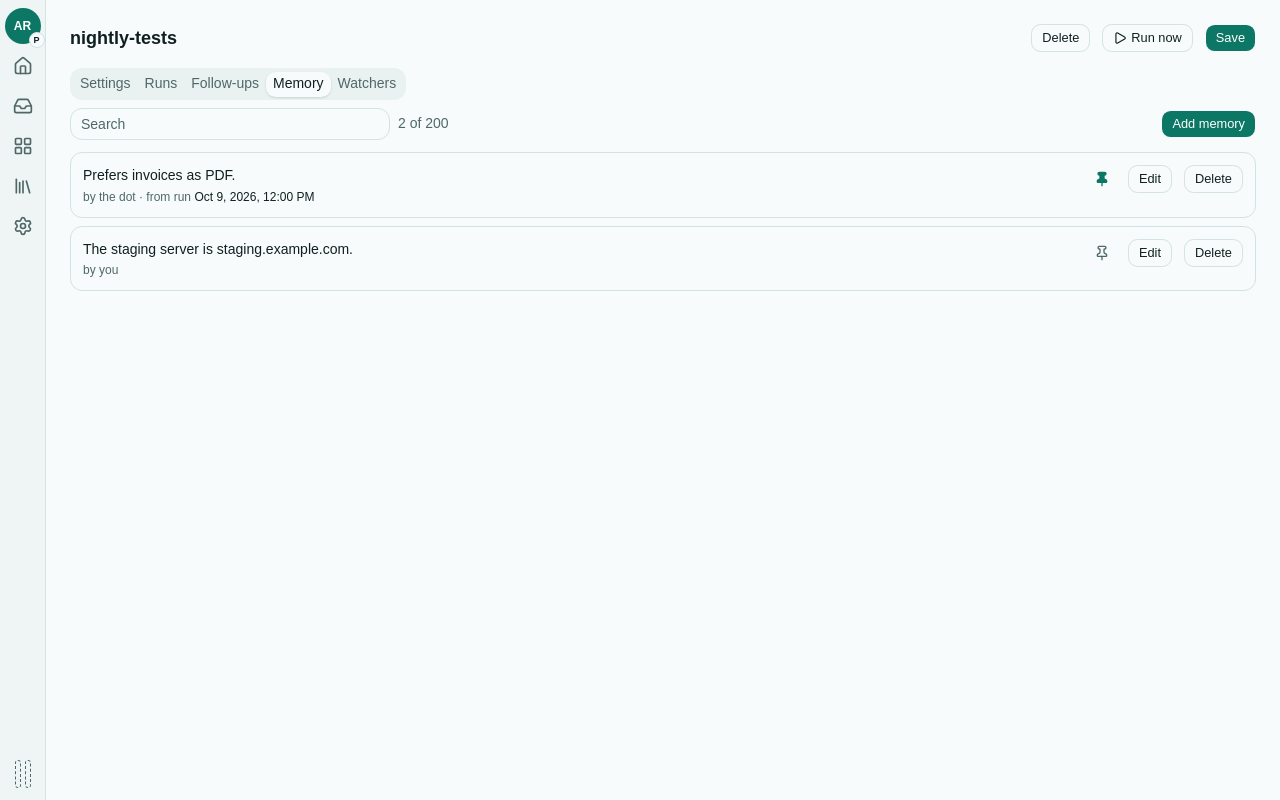
it: a dot's Memory tab › finds memories by the words in their text
The width and height of the screenshot is (1280, 800).
Check: the tab "Memory" is shown, box [266, 72, 331, 96]
In the search field named "Search memories": [230, 124] box [70, 108, 390, 140], type "EXAMPLE staging"
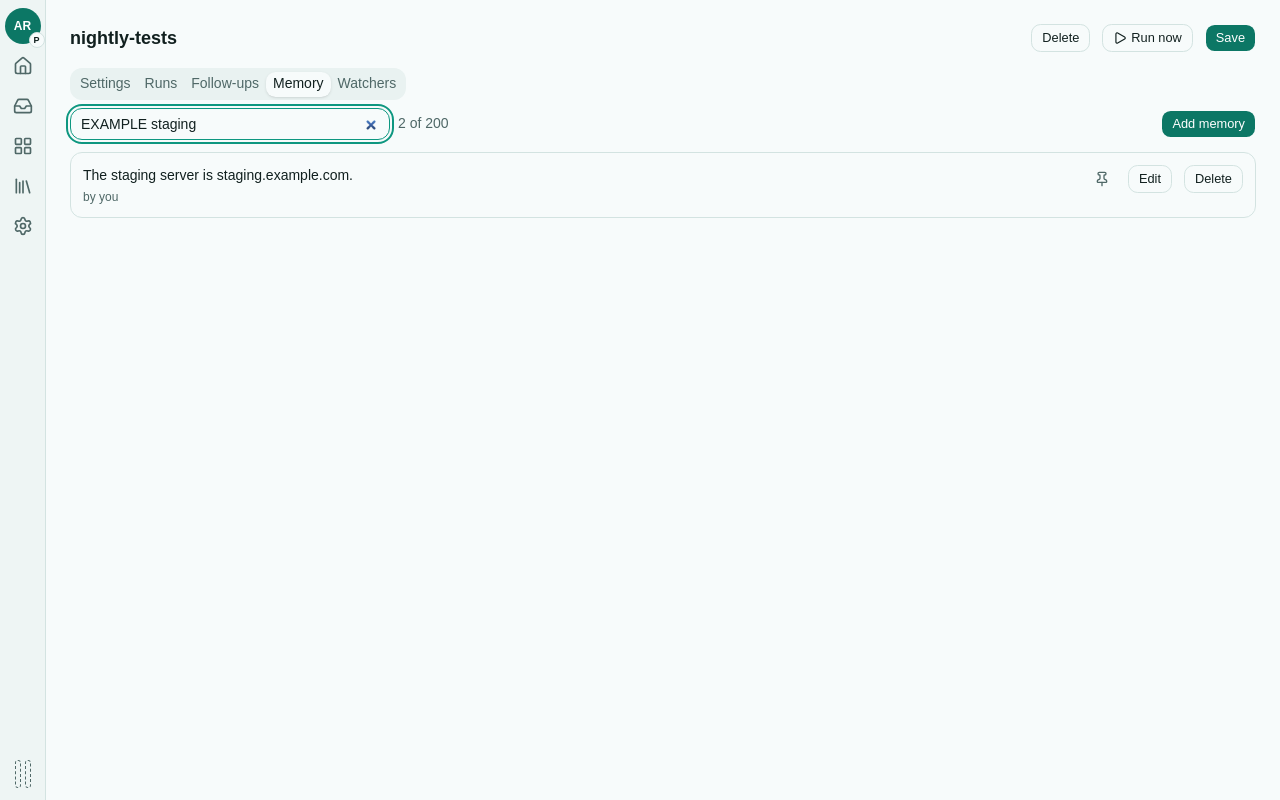
Check: the text "2 of 200" is shown, box [398, 115, 449, 131]
Replace the text in the search field named "Search memories" with "nothing like it": [230, 124] box [70, 108, 390, 140]
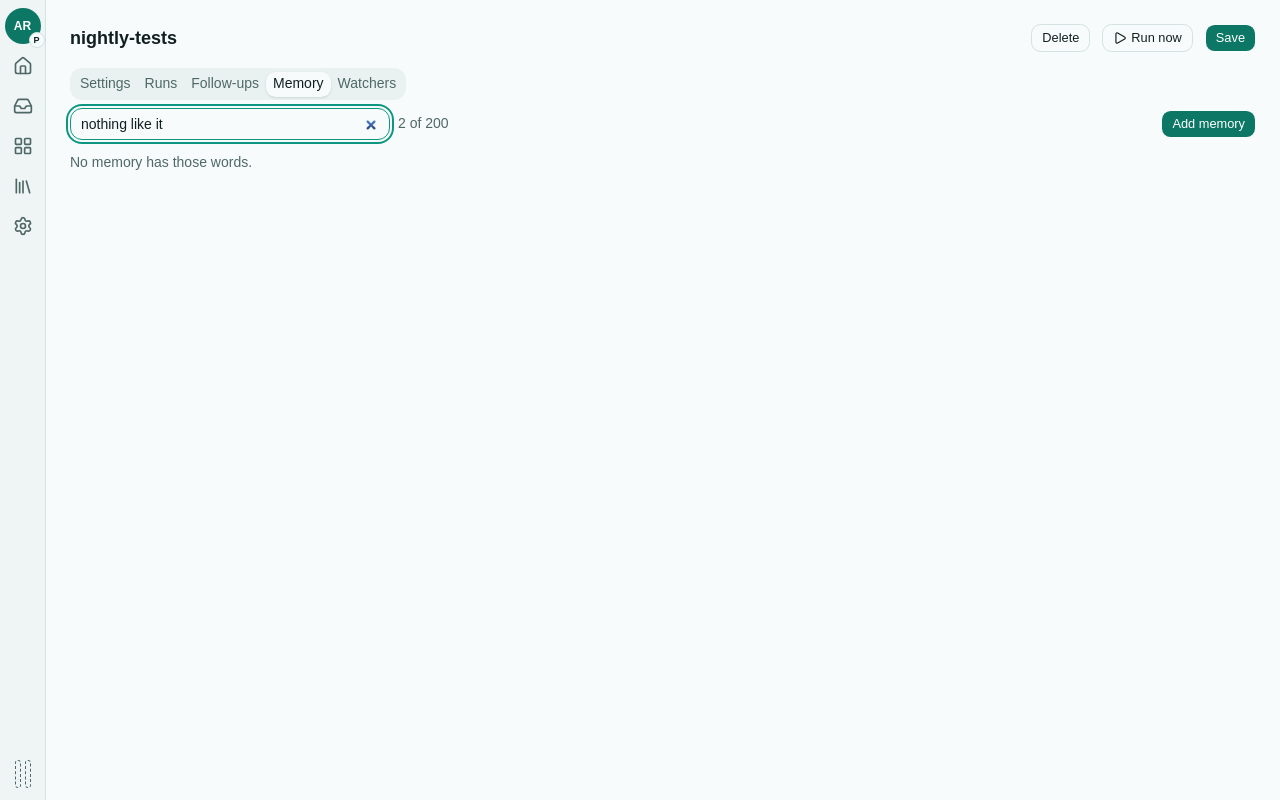
Check: the text "No memory has those words." is shown, box [70, 154, 252, 170]
